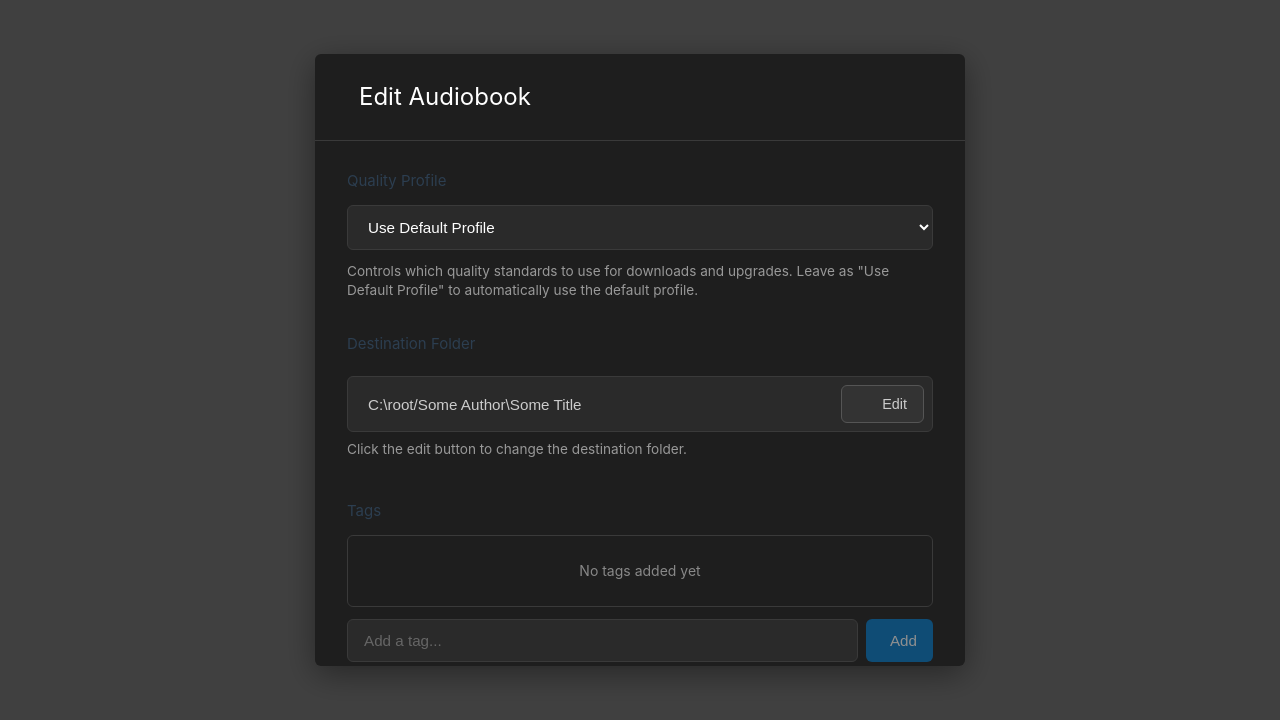
Test case: EditAudiobookModal relative path calculation › preserves a user-typed relative path after Done and reopen
The width and height of the screenshot is (1280, 720).
(page scrolled)
Note: Enter edit mode
Click the button with class "btn-edit-destination" at (883, 404), box [841,386,924,423]
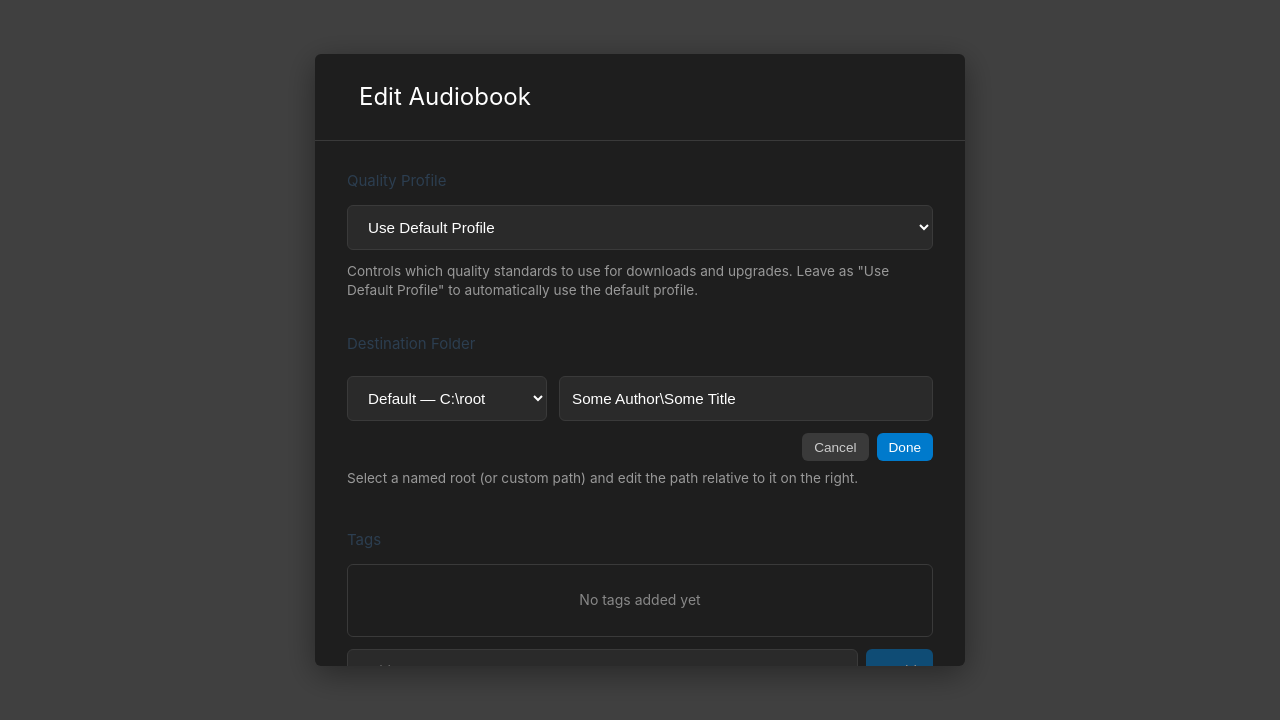
Now the field with class "relative-input" is shown
Note: Type a relative path
Replace the text in the field with class "relative-input" with "My Author\\My Title" at (746, 399), box [559,376,933,422]
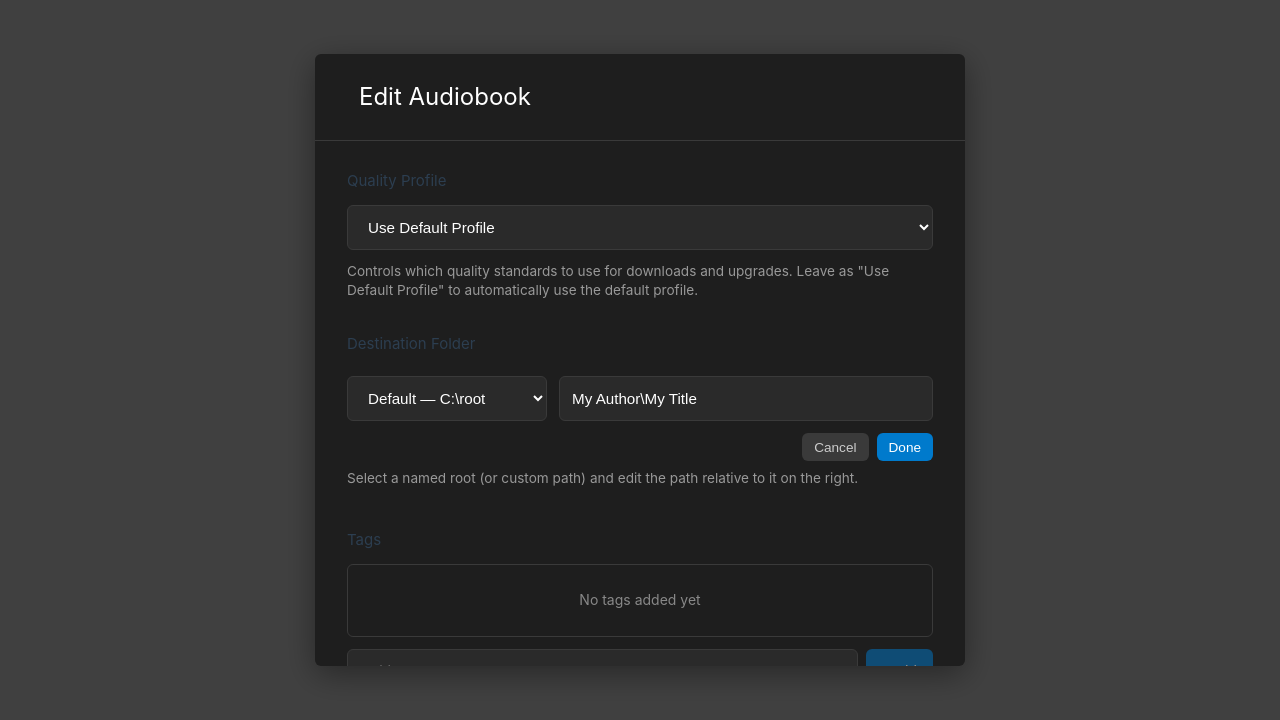
Note: Click Done
Click the button "Done" at (905, 447), box [876,434,933,461]
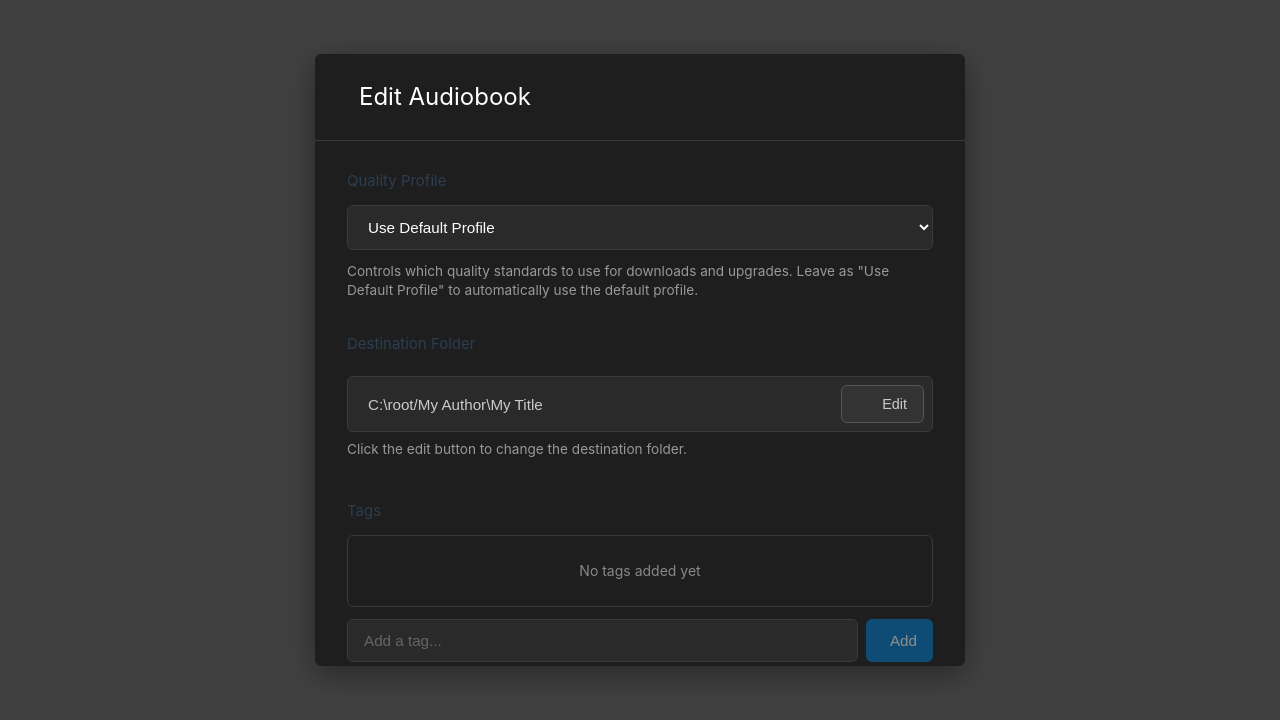
Note: Re-open editor
Click the button with class "btn-edit-destination" at (883, 404), box [841,386,924,423]
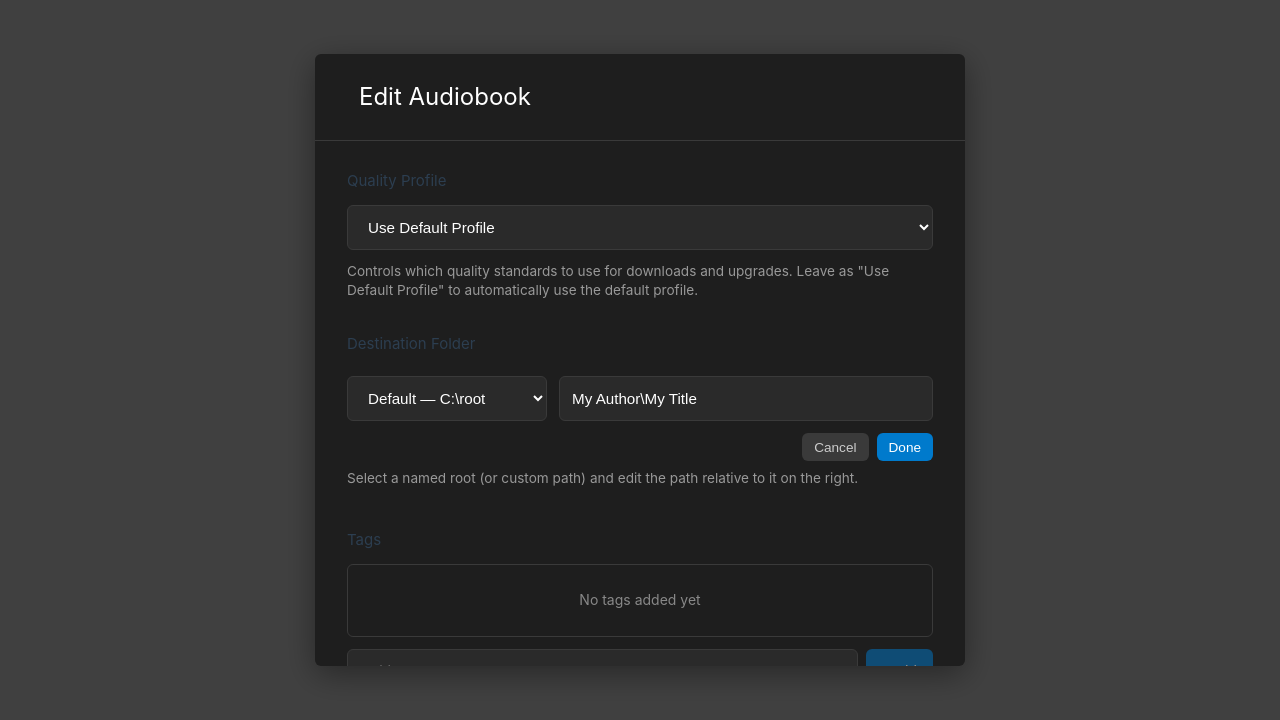
Now the field with class "relative-input" holds "My Author\\My Title", box [559,376,933,422]
